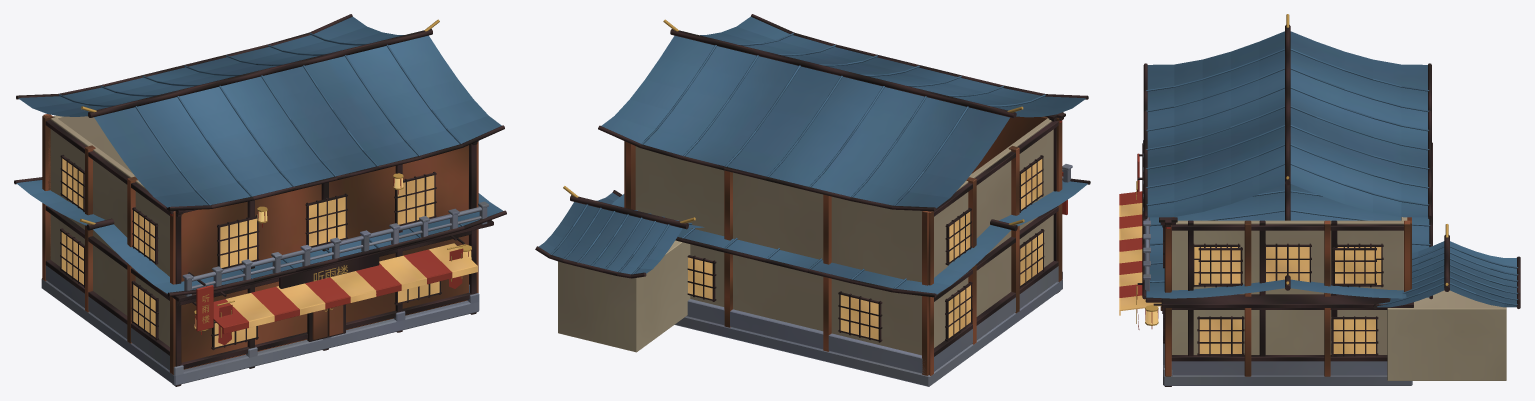
Rendered from model-shop-06.glb.
3 renders of one model, left to right at view 1: azimuth 30°, elevation 25°; view 2: azimuth 150°, elevation 25°; view 3: azimuth 270°, elevation 25°, orthographic. The views are drawn at different scales.
Parts seen in each view (by area): view 1: model-shop-06; view 2: model-shop-06; view 3: model-shop-06.
Boxes of the visible parts, x1,y1,x2,y2 form: model-shop-06: (14,14,506,386); model-shop-06: (535,14,1090,386); model-shop-06: (1119,14,1520,386).
Size of the model in its own units: 15.2 by 9.29 by 15.12.
Materials: 9 (9 with a texture image).
